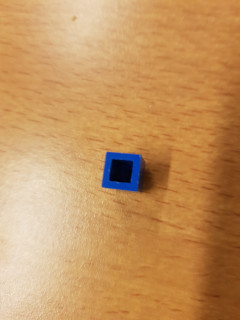1x1 blue: (101, 151, 145, 192)
